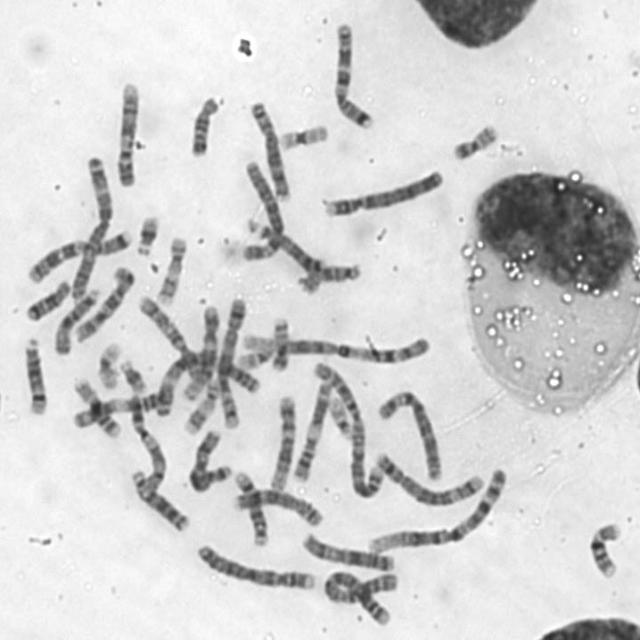A1: (363, 462, 511, 554), (234, 326, 437, 368)
A2: (308, 358, 386, 500), (319, 564, 400, 630)
A3: (149, 347, 263, 418), (67, 149, 117, 302)
B4: (318, 163, 448, 220), (192, 539, 319, 593)
B5: (370, 447, 485, 509), (214, 292, 250, 430)
C10: (133, 290, 210, 395), (71, 260, 138, 343)
C11: (289, 376, 334, 484), (68, 387, 172, 431)
C12: (179, 298, 222, 402), (264, 389, 298, 492)
C6: (372, 384, 444, 482), (237, 154, 287, 262)
C7: (23, 224, 136, 285), (329, 17, 376, 132)
C8: (245, 94, 294, 202), (226, 484, 326, 529)
C9: (123, 390, 169, 493), (111, 75, 142, 189)
D13: (252, 222, 332, 280), (126, 464, 190, 534)
D14: (230, 465, 272, 548), (20, 332, 50, 417)
D15: (50, 282, 102, 357), (294, 256, 364, 294)
E16: (68, 372, 124, 439), (584, 514, 626, 580)
E17: (152, 230, 189, 308), (179, 376, 222, 436)
E18: (185, 90, 224, 158), (22, 274, 73, 323)
F19: (276, 118, 332, 152), (92, 337, 124, 391)
F20: (447, 117, 502, 162), (268, 311, 292, 373)
G21: (131, 209, 163, 258), (115, 354, 149, 394)
G22: (235, 330, 278, 370), (324, 391, 355, 440)
X: (298, 527, 397, 572), (184, 425, 233, 494)
